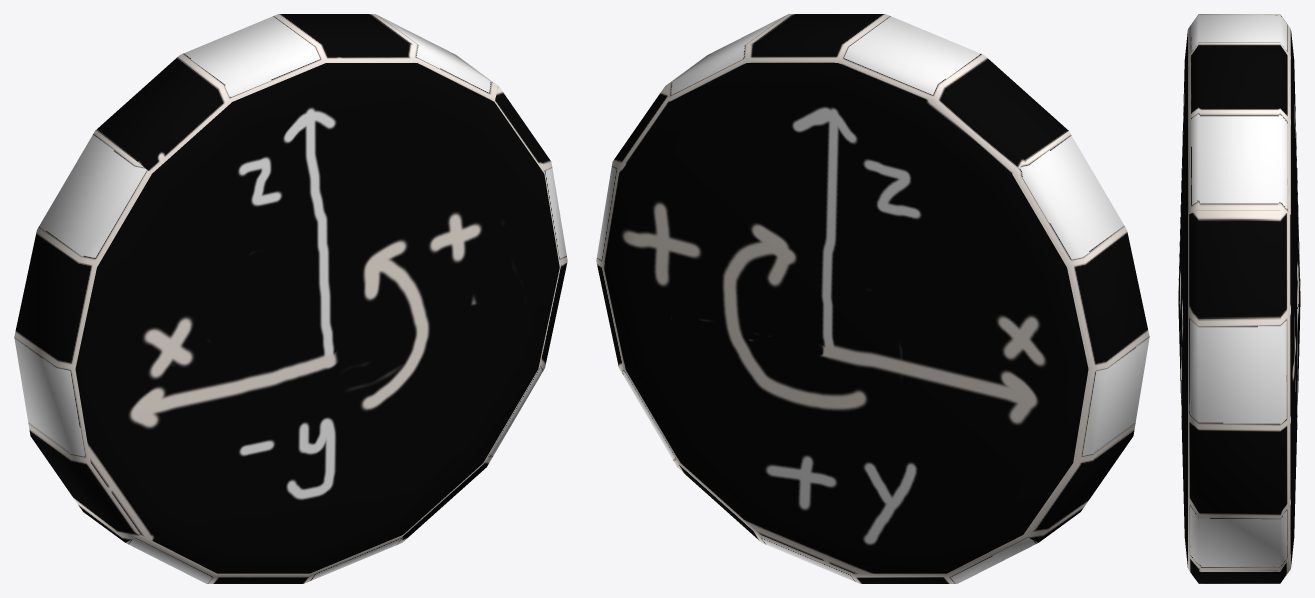
Rendered from wheelSolid.fbx.
3 views of the same model, side by side, from view 1: azimuth 30°, elevation 25°; view 2: azimuth 150°, elevation 25°; view 3: azimuth 270°, elevation 25° (orthographic). The views are drawn at different scales.
Parts seen in each view (by area): view 1: Cylinder001; view 2: Cylinder001; view 3: Cylinder001.
Boxes of the visible parts, <box> form: Cylinder001: <box>14,14,567,583</box>; Cylinder001: <box>596,14,1149,583</box>; Cylinder001: <box>1178,14,1300,583</box>.
Size of the model in its own units: 21.43 by 100 by 100.
Materials: 1 (1 with a texture image).
